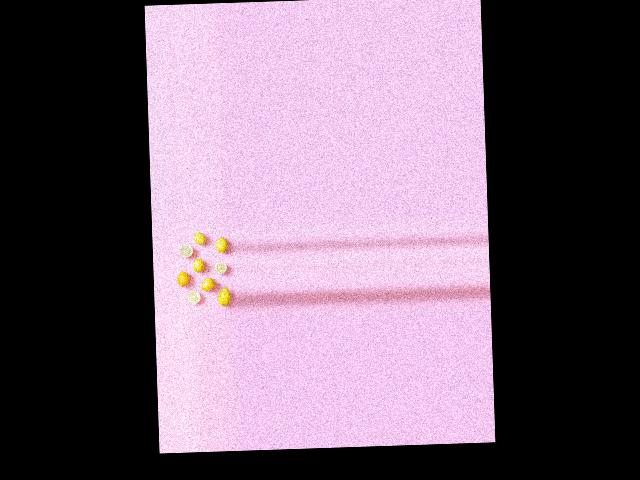lemon: (217, 236, 230, 256)
